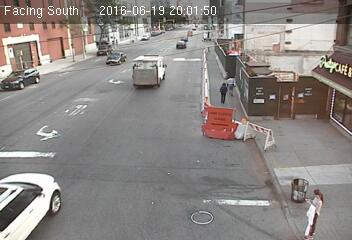neg: (209, 170, 243, 216), (316, 34, 347, 76), (29, 103, 60, 144), (16, 32, 47, 73), (153, 188, 184, 228), (99, 135, 128, 173), (204, 110, 232, 147), (263, 40, 291, 76), (147, 70, 173, 105), (162, 117, 188, 151), (257, 122, 281, 154), (317, 121, 340, 151), (299, 73, 321, 102), (211, 27, 233, 56), (40, 168, 60, 195), (88, 63, 107, 88), (164, 23, 181, 45)
pos: (297, 186, 335, 236), (214, 79, 232, 102)
